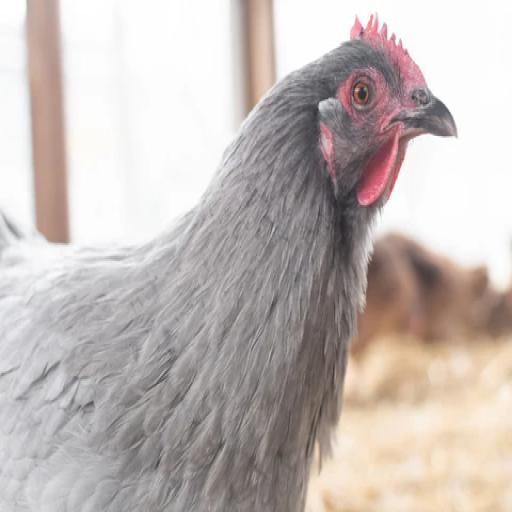healthy: (317, 40, 448, 177)
